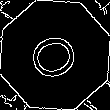O_E: (24, 26, 86, 84)
